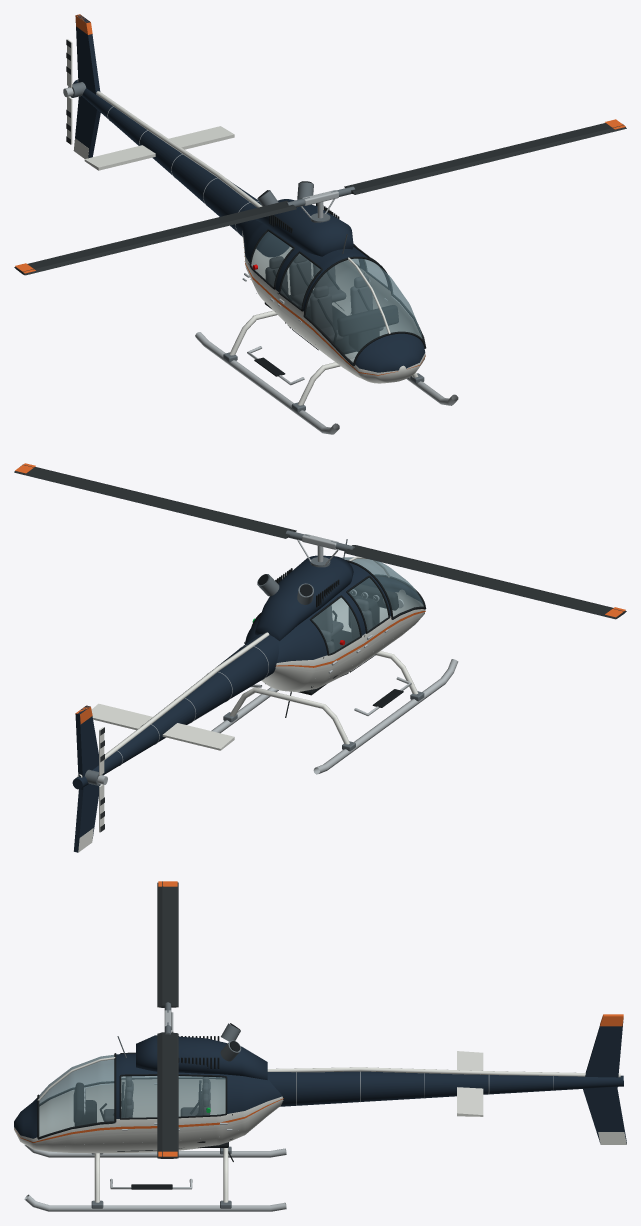
File: helicopter.glb
3 renders of one model, top to bottom at view 1: azimuth 30°, elevation 25°; view 2: azimuth 150°, elevation 25°; view 3: azimuth 270°, elevation 25°, orthographic. The views are drawn at different scales.
Parts seen in each view (by area): view 1: CabinShell.001, Static Midnight blue enamel, Static Rubber seals and steps, Static Ivory aviation enamel, Static Charcoal seat upholstery, MainRotorBlade, MainRotorBlade.001, Static Brushed aluminum, Static Rotor and engine steel, Static Rescue orange accent; view 2: Static Midnight blue enamel, CabinShell.001, Static Ivory aviation enamel, Static Rubber seals and steps, MainRotorBlade, MainRotorBlade.001, Static Brushed aluminum, Static Rotor and engine steel, Static Charcoal seat upholstery, Static Rescue orange accent; view 3: CabinShell.001, Static Midnight blue enamel, Static Ivory aviation enamel, Static Brushed aluminum, Static Rubber seals and steps, MainRotorBlade.001, MainRotorBlade, Static Charcoal seat upholstery, Static Rescue orange accent, Static Rotor and engine steel.
Boxes of the visible parts, x1,y1,x2,y2 form: CabinShell.001: (242, 219, 425, 383); Static Midnight blue enamel: (73, 14, 353, 257); Static Rubber seals and steps: (248, 181, 426, 376); Static Ivory aviation enamel: (73, 79, 424, 405); Static Charcoal seat upholstery: (265, 253, 383, 341); MainRotorBlade: (14, 200, 296, 275); MainRotorBlade.001: (344, 123, 626, 194); Static Brushed aluminum: (107, 106, 458, 434); Static Rotor and engine steel: (68, 82, 424, 412); Static Rescue orange accent: (75, 14, 425, 375); Static Midnight blue enamel: (72, 555, 353, 852); CabinShell.001: (245, 557, 425, 692); Static Ivory aviation enamel: (73, 556, 424, 852); Static Rubber seals and steps: (251, 560, 426, 717); MainRotorBlade: (344, 545, 626, 619); MainRotorBlade.001: (14, 464, 296, 538); Static Brushed aluminum: (117, 546, 458, 774); Static Rotor and engine steel: (85, 539, 424, 785); Static Charcoal seat upholstery: (312, 598, 372, 678); Static Rescue orange accent: (75, 611, 425, 724); CabinShell.001: (14, 1053, 282, 1153); Static Midnight blue enamel: (136, 1019, 626, 1143); Static Ivory aviation enamel: (15, 1051, 626, 1202); Static Brushed aluminum: (24, 1071, 553, 1211); Static Rubber seals and steps: (37, 1023, 240, 1189); MainRotorBlade.001: (157, 1032, 178, 1158); MainRotorBlade: (157, 881, 178, 1007); Static Charcoal seat upholstery: (103, 1076, 210, 1142); Static Rescue orange accent: (15, 1014, 623, 1142); Static Rotor and engine steel: (91, 1023, 241, 1208).
Bounding box in the file's own units: 10.16 × 2.91 × 9.55.
